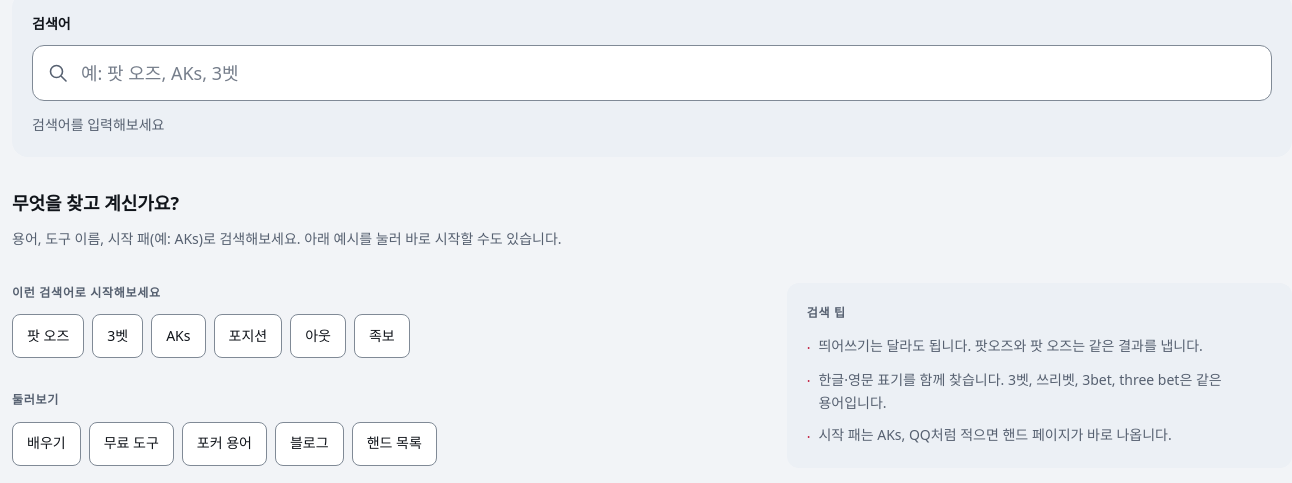
SearchClient › shows an honest empty state, with hub links, for a genuine miss
The image size is (1292, 483).
In the search field labelled "검색어": x=652, y=72 top-left (32, 44), bottom-right (1272, 100), type "완전히무관한검색어xyz"
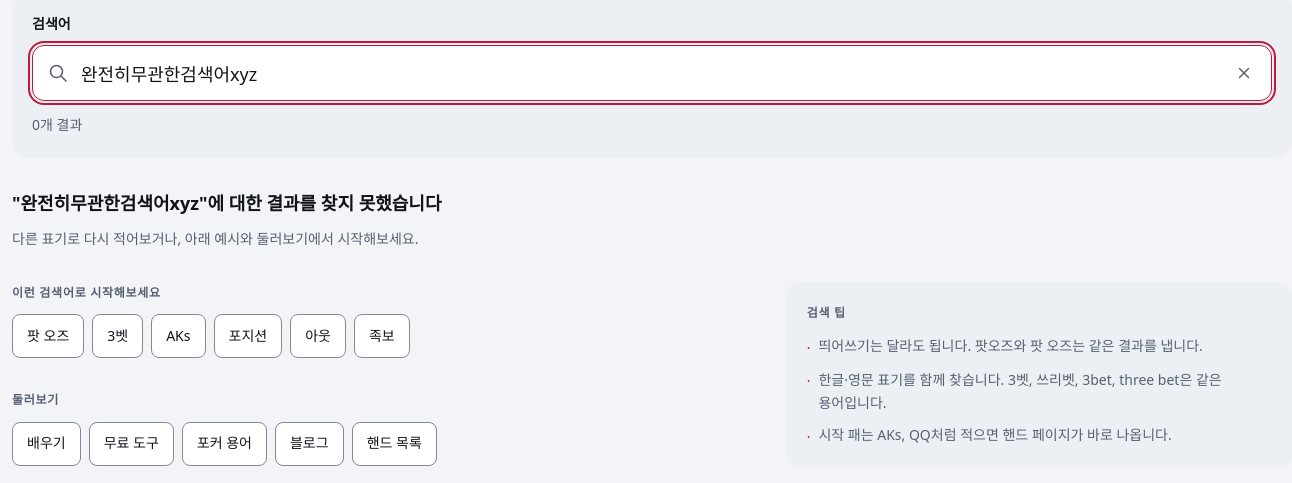
Expected: the link "배우기" is shown, top-left (12, 422), bottom-right (81, 466)
Expected: the text "\"완전히무관한검색어xyz\"에 대한 결과를 찾지 못했습니다" is shown, top-left (12, 191), bottom-right (442, 215)
